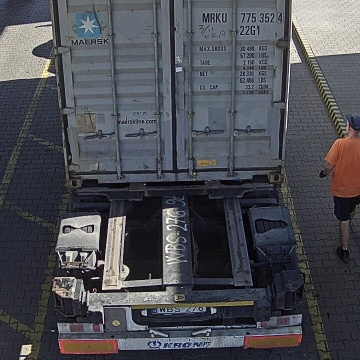serial_id: (202, 12, 283, 22)
